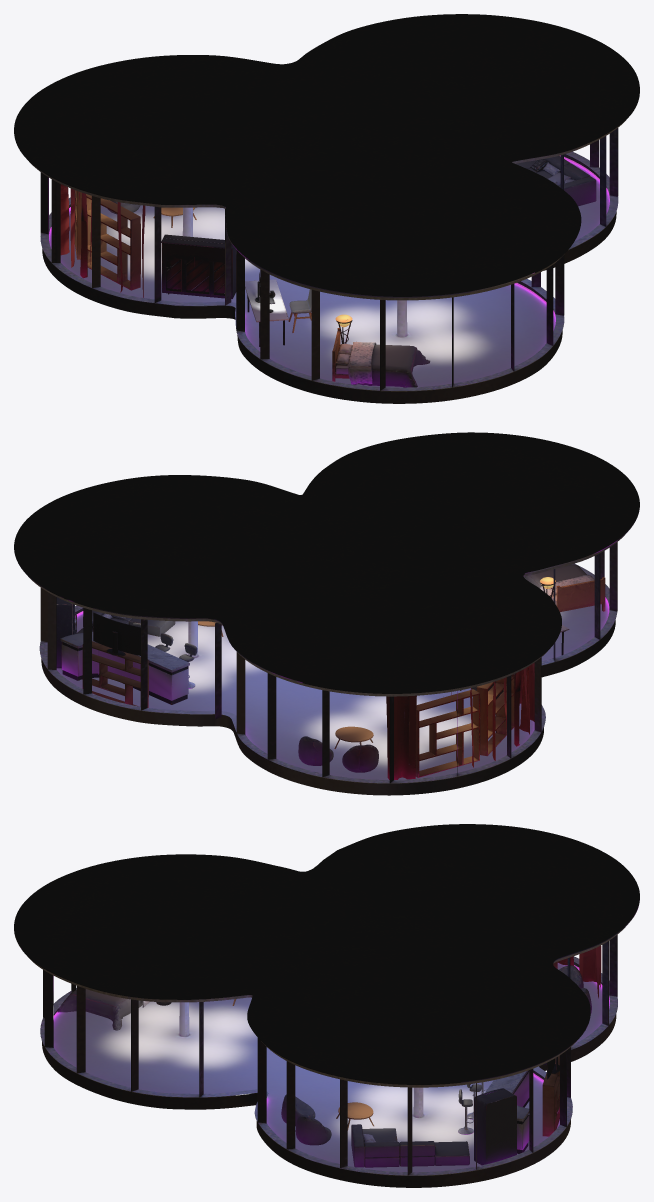
The model's file is kleeblatt_quest_home_environment.glb.
3 views of the same model, one above another, from view 1: azimuth 30°, elevation 25°; view 2: azimuth 150°, elevation 25°; view 3: azimuth 270°, elevation 25° (orthographic). The views are drawn at different scales.
Parts seen in each view (by area): view 1: kleeblatt.001_0, TV.002_1; view 2: kleeblatt.001_0, TV.002_1; view 3: kleeblatt.001_0, TV.002_1.
Part boxes in pixels (x1=…): kleeblatt.001_0: x1=14, y1=14, x2=639, y2=403; TV.002_1: x1=60, y1=155, x2=596, y2=387; kleeblatt.001_0: x1=14, y1=432, x2=639, y2=795; TV.002_1: x1=56, y1=564, x2=605, y2=779; kleeblatt.001_0: x1=14, y1=824, x2=639, y2=1187; TV.002_1: x1=57, y1=945, x2=601, y2=1167.
Bounding box in the file's own units: 17.61 × 3.63 × 17.91.
Materials: 2 (2 with a texture image).
